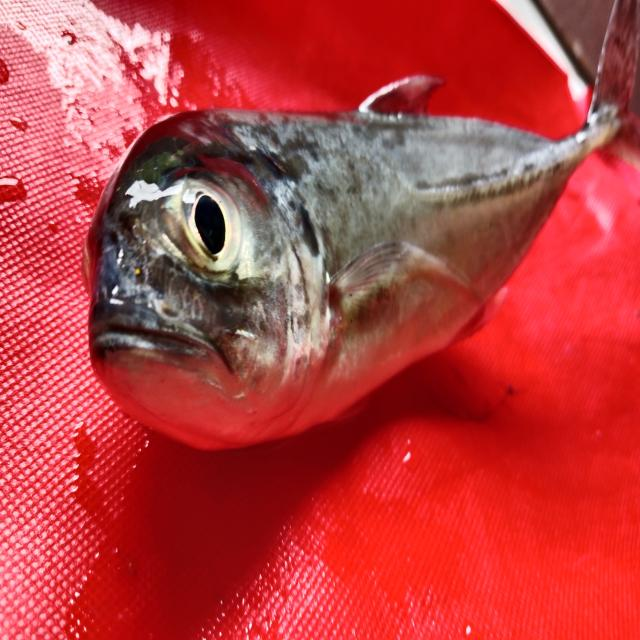ikan: (70, 66, 616, 461)
